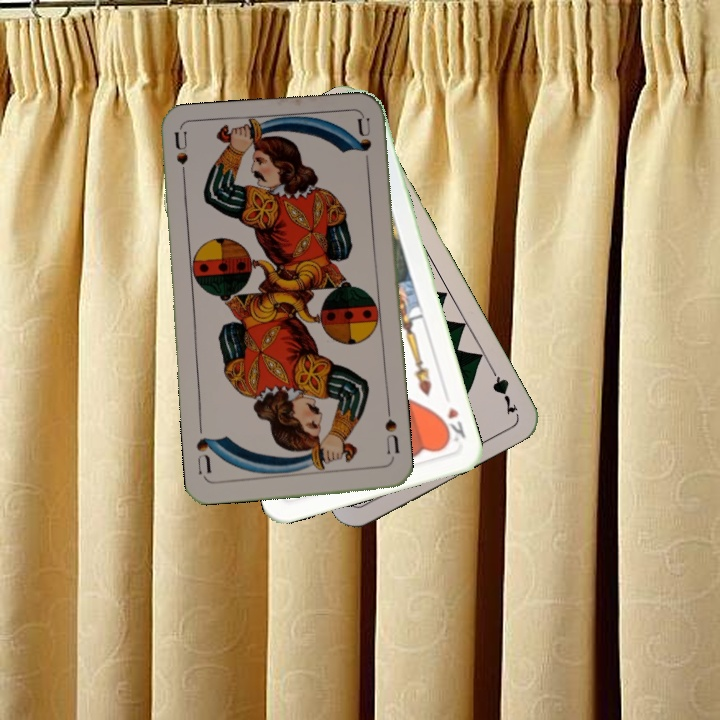G7: (484, 361, 521, 418)
HK: (437, 403, 468, 445)
SU: (170, 129, 191, 189), (381, 415, 402, 456)
